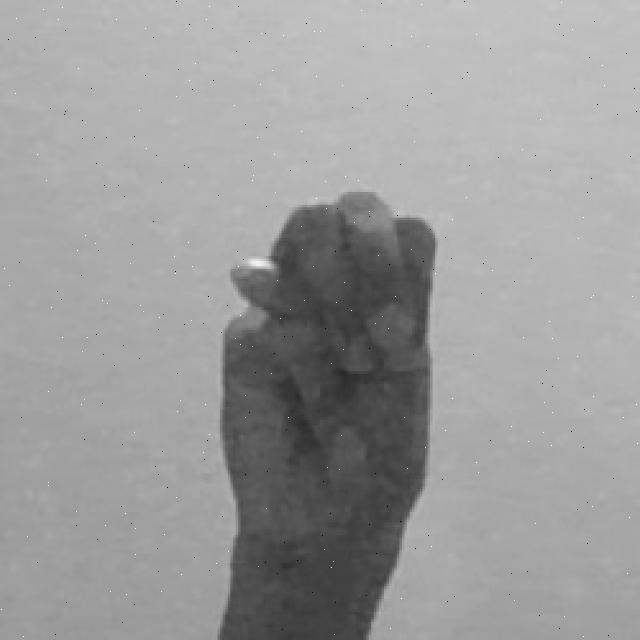M: (214, 184, 446, 640)
